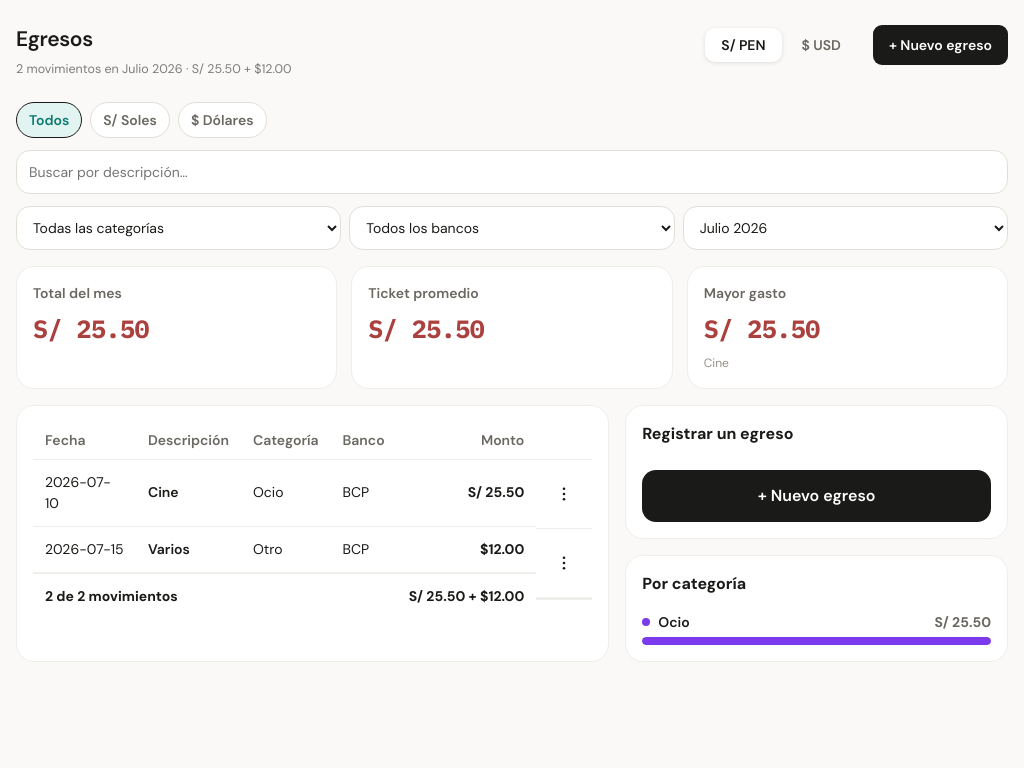
Scenario: HistorialView — tabla, filtros y stat cards (rediseño "Caudal", Fase 2) › filtro por chip de moneda + "Todos los meses": "S/ Soles" deja solo Cine y Taxi (PEN)
Select "Todos los meses" in the dropdown named "Filtrar por mes" at (845, 228), box [683,206,1008,250]
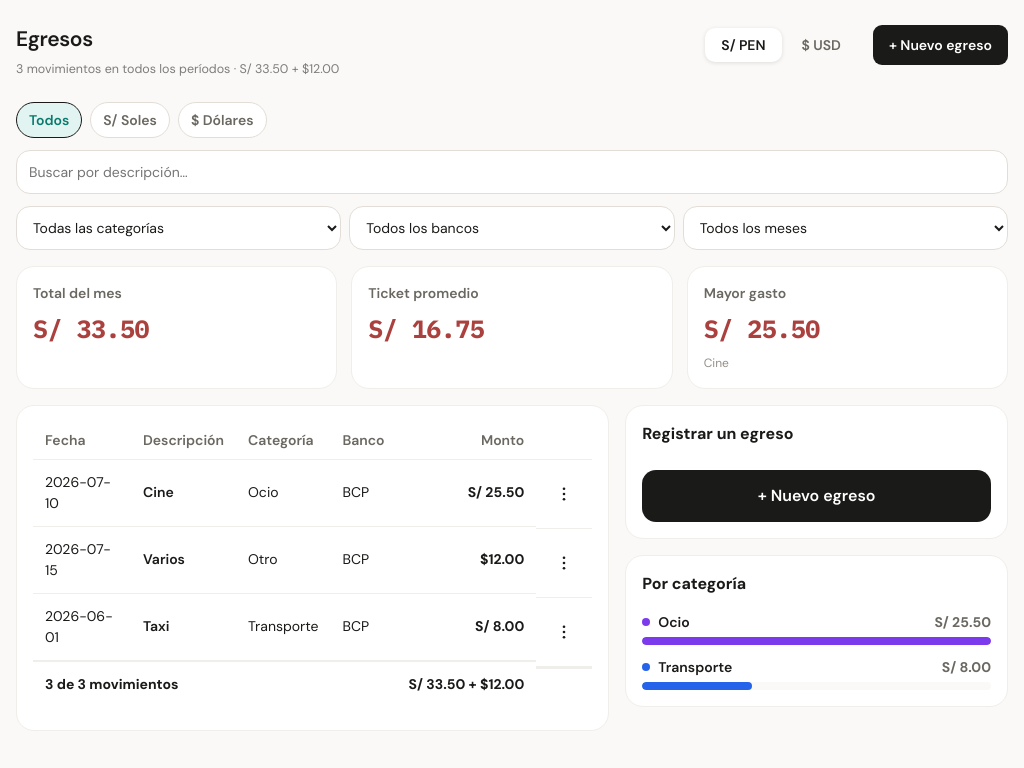
Click the button with class "chip-moneda" showing "S/ Soles" at (130, 120), box [90,102,170,138]
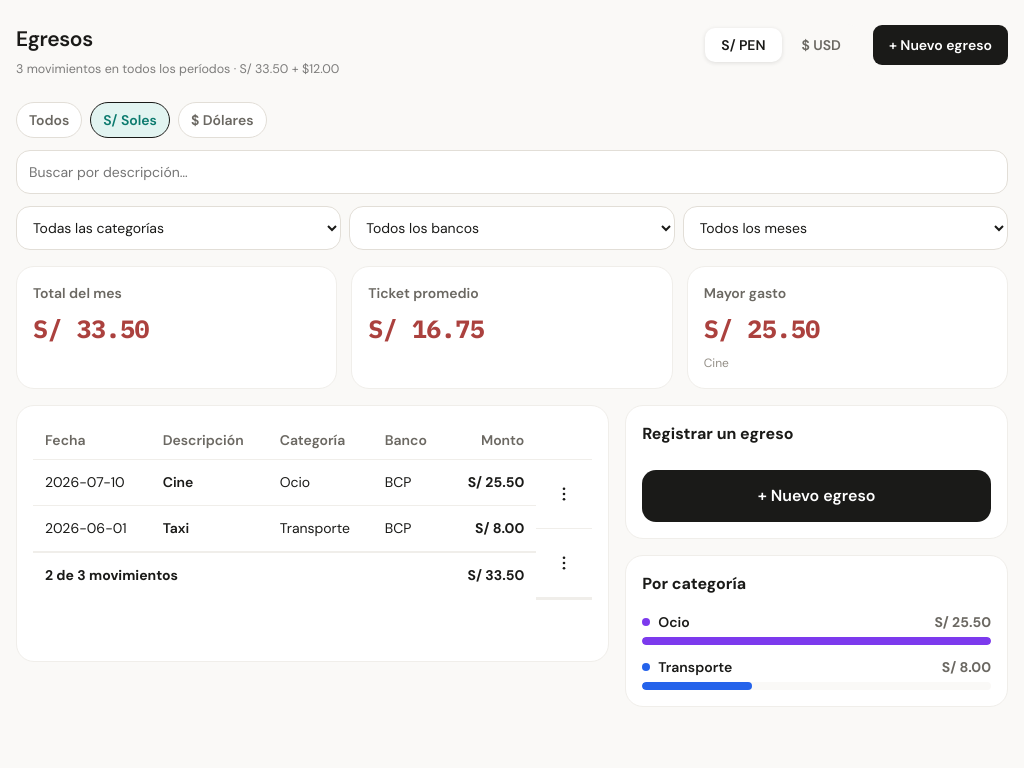
Expected: the text "Cine" is shown, [704,355,729,371]
Now the text "Taxi" is shown, box [151,505,268,552]
Now the text "Varios" is gone
